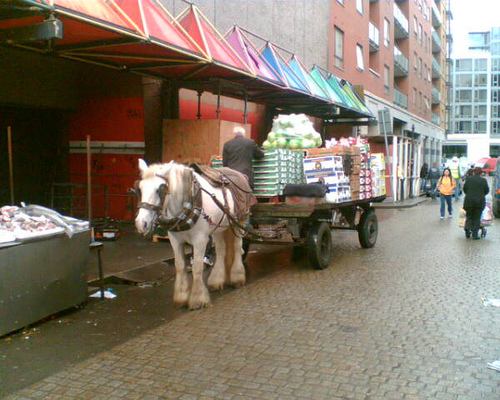horse: (133, 156, 258, 311)
